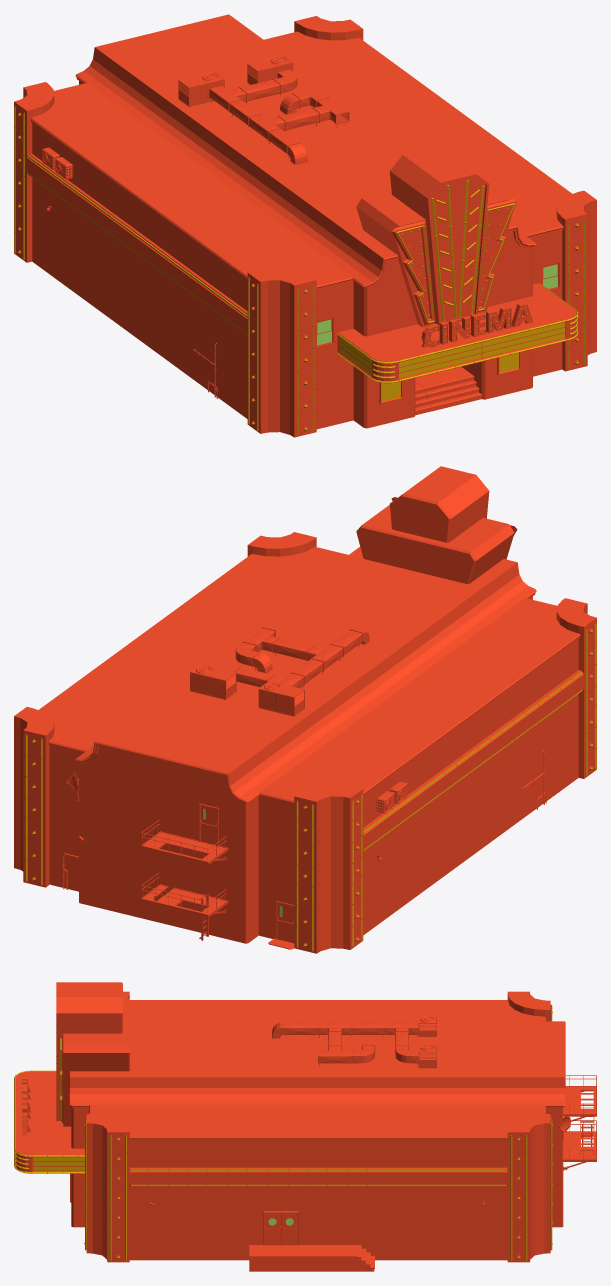
The model's file is SM_Cinema_City.fbx.
3 renders of one model, top to bottom at view 1: azimuth 30°, elevation 25°; view 2: azimuth 150°, elevation 25°; view 3: azimuth 270°, elevation 25°, orthographic. The views are drawn at different scales.
Parts seen in each view (by area): view 1: SM_Cinema_City_Base; view 2: SM_Cinema_City_Base, SM_Cinema_City_Door_B_A, SM_Cinema_City_Door_B_B; view 3: SM_Cinema_City_Base, SM_Cinema_City_Door_Side_R, SM_Cinema_City_Door_Side_L.
Boxes of the visible parts, box(x1,y1,x2,y2) form: SM_Cinema_City_Base: box(14, 14, 596, 437); SM_Cinema_City_Base: box(14, 466, 596, 953); SM_Cinema_City_Door_B_A: box(200, 805, 217, 844); SM_Cinema_City_Door_B_B: box(277, 903, 293, 943); SM_Cinema_City_Base: box(14, 982, 596, 1271); SM_Cinema_City_Door_Side_R: box(264, 1212, 280, 1245); SM_Cinema_City_Door_Side_L: box(281, 1212, 297, 1245).
Size of the model in its own units: 21.39 by 13.32 by 34.79.
